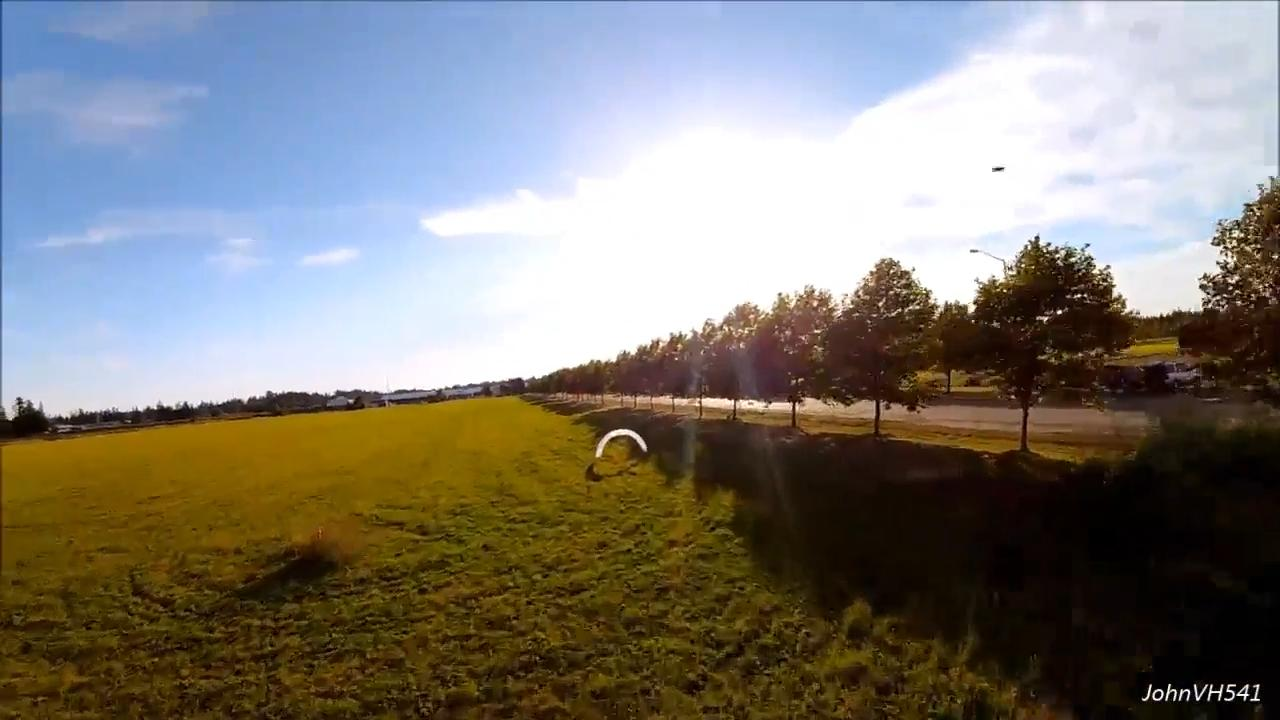gate: (593, 427, 652, 462)
